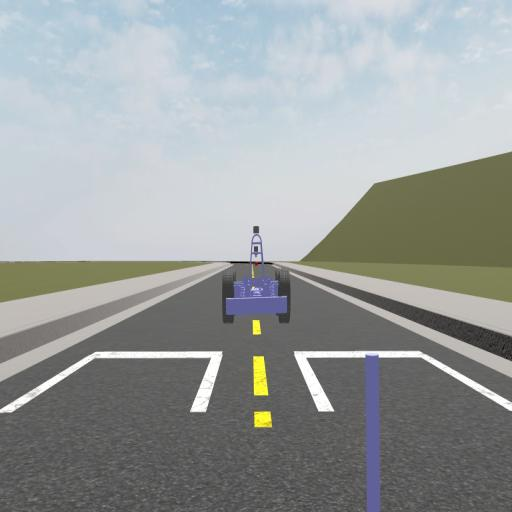ERP-42: (222, 224, 292, 322)
